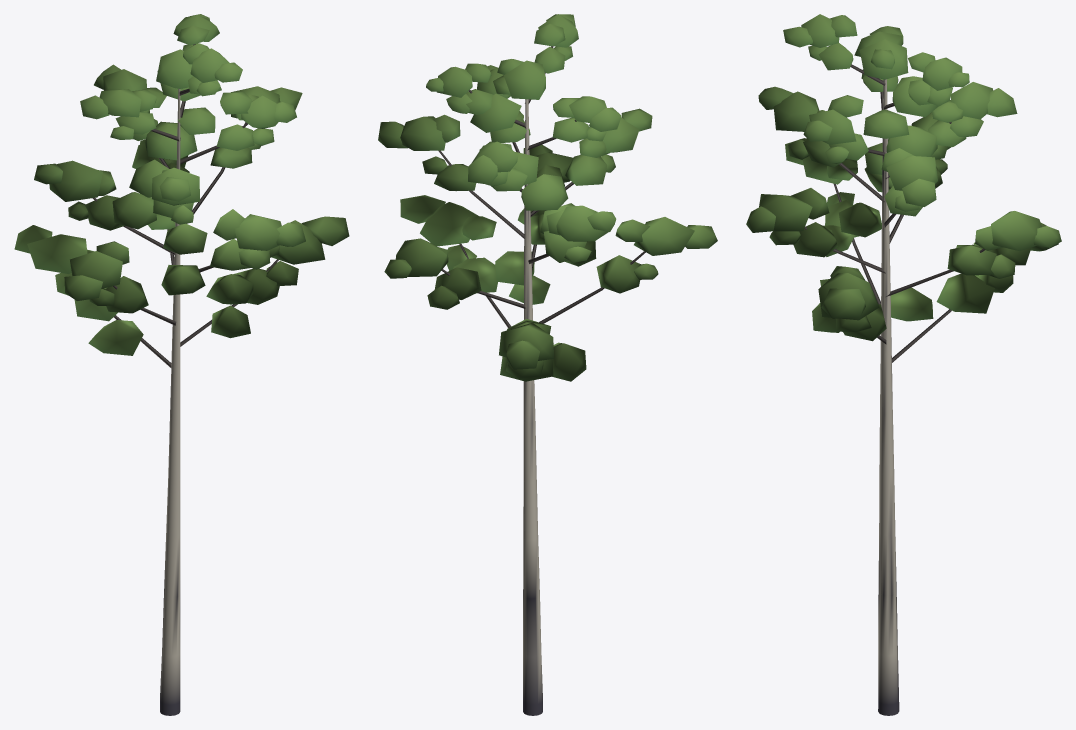
Rendered from birch.glb.
3 views of the same model, side by side, from view 1: azimuth 30°, elevation 25°; view 2: azimuth 150°, elevation 25°; view 3: azimuth 270°, elevation 25° (orthographic). The views are drawn at different scales.
Parts seen in each view (by area): view 1: birch; view 2: birch; view 3: birch.
Part boxes in pixels (left/top/right/bottom): birch: left=14, top=14, right=349, bottom=715; birch: left=378, top=14, right=717, bottom=715; birch: left=746, top=14, right=1061, bottom=715.
Size of the model in its own units: 5.7 by 12.49 by 5.1.
